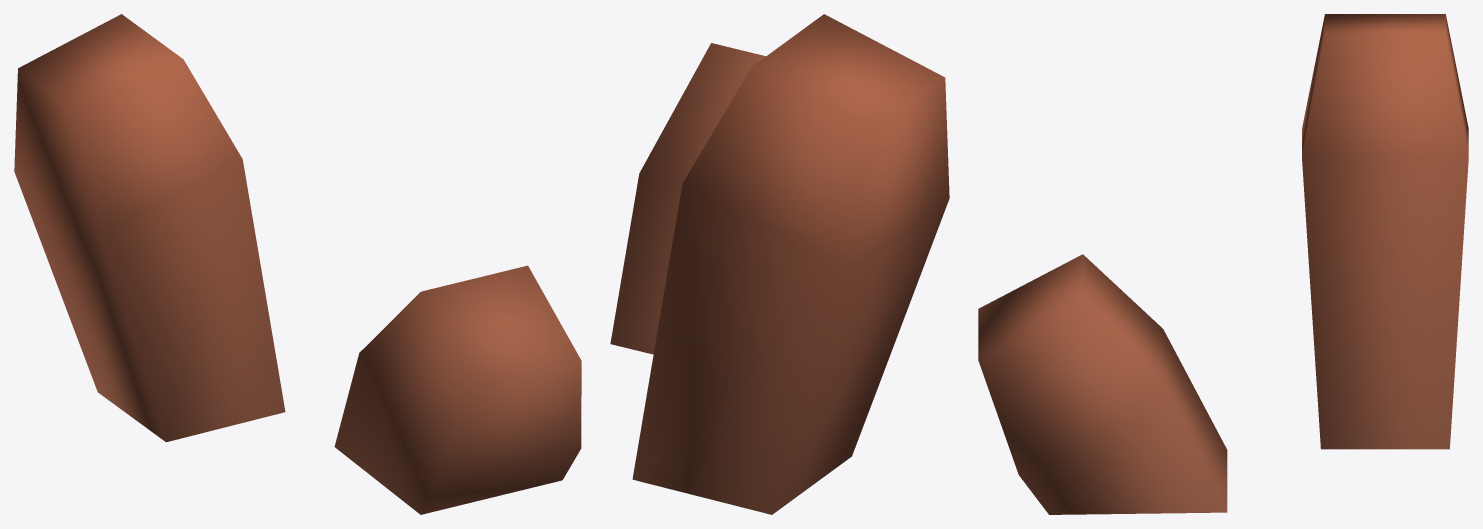
The model's file is grass-small.glb.
3 renders of one model, left to right at view 1: azimuth 30°, elevation 25°; view 2: azimuth 150°, elevation 25°; view 3: azimuth 270°, elevation 25°, orthographic. The views are drawn at different scales.
Visible parts, largest first — view 1: grass-small; view 2: grass-small; view 3: grass-small.
Boxes of the visible parts, left/top/right/bottom form: grass-small: left=14, top=14, right=581, bottom=514; grass-small: left=610, top=14, right=949, bottom=514; grass-small: left=978, top=14, right=1468, bottom=514.
Size of the model in its own units: 0.2477 by 0.2581 by 0.3129.
Materials: 1 (1 with a texture image).
